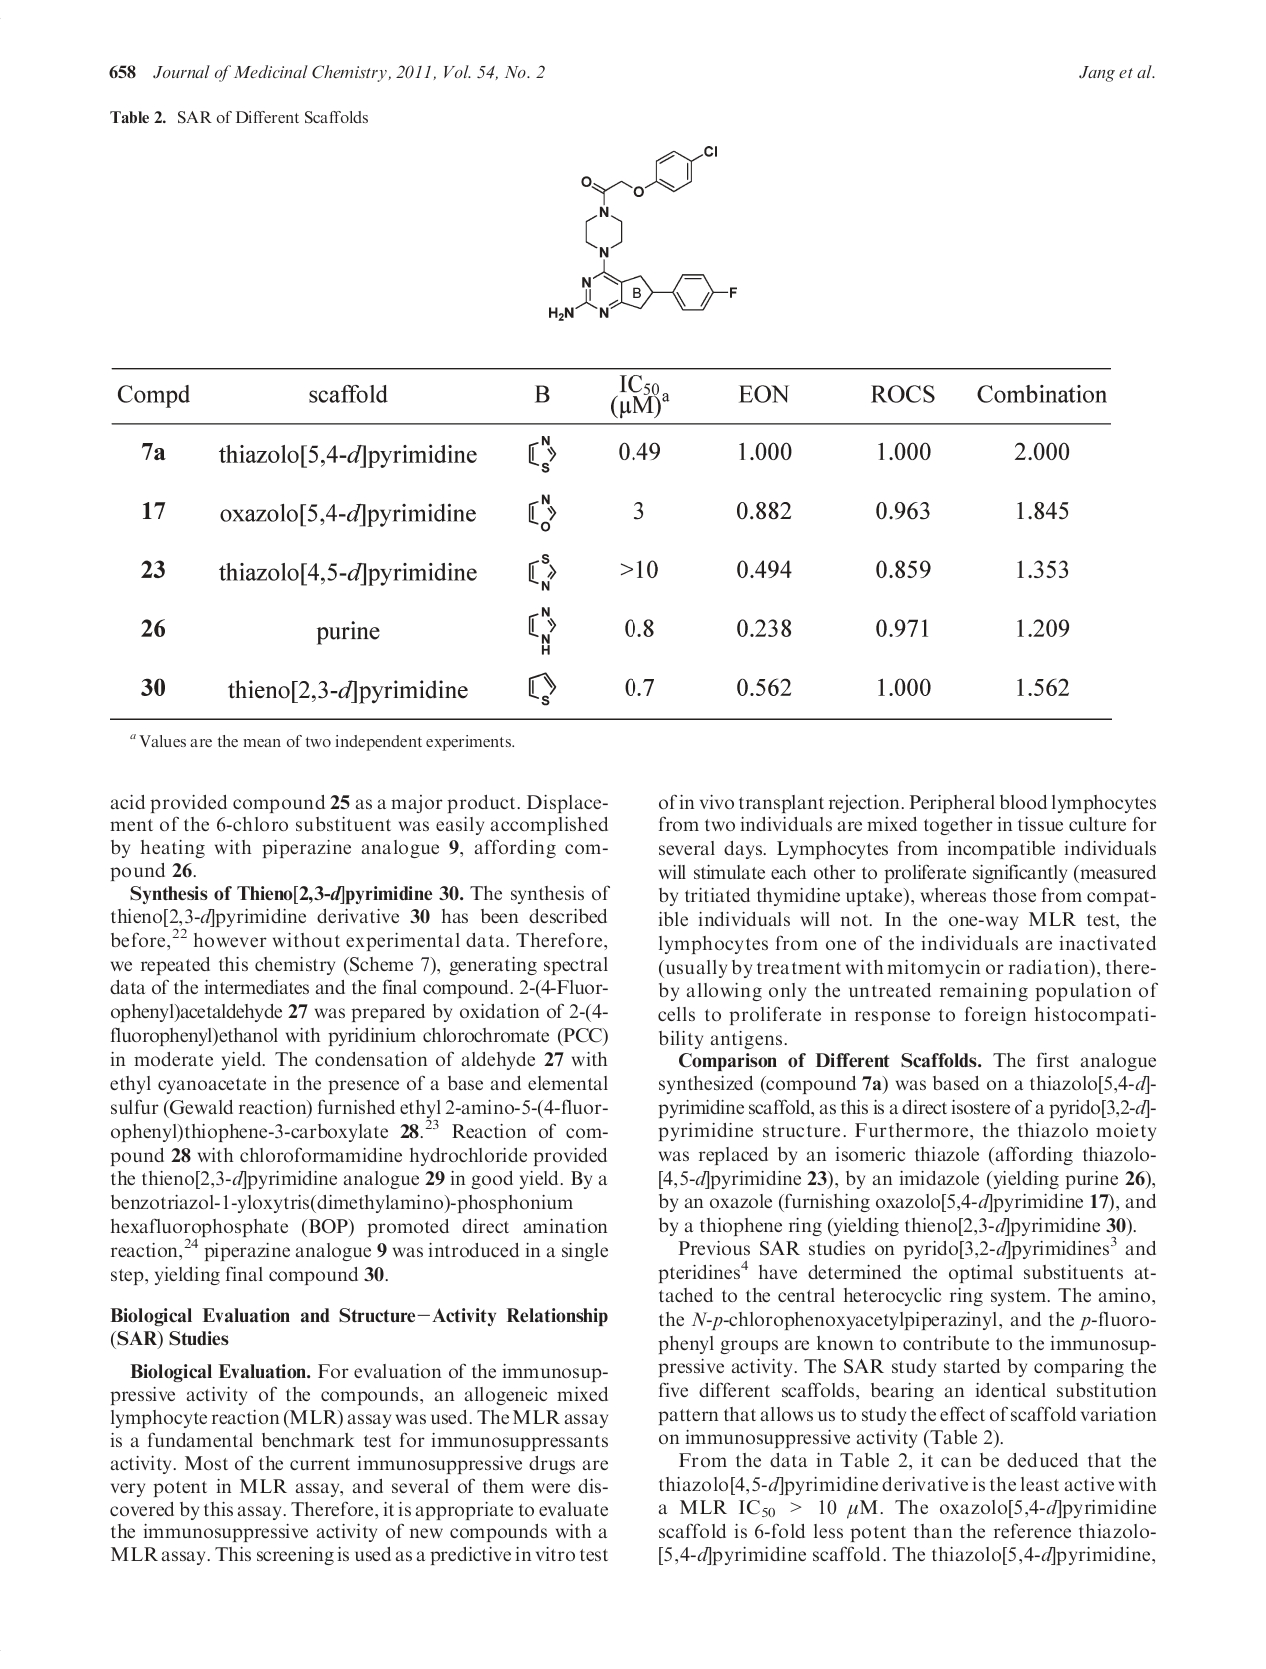exist_molecular: (545, 144, 741, 327), (523, 602, 559, 656), (525, 488, 557, 539), (519, 668, 559, 707), (524, 430, 560, 473), (527, 551, 559, 594)
